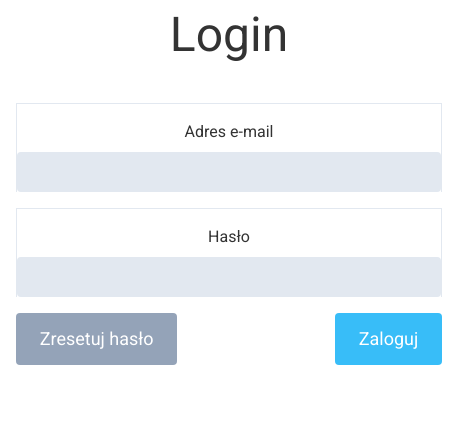
Test: Login › should display error when credentials are invalid
In the field labelled "Adres e-mail": (229, 172) 17,152 -> 441,192, type "test@email"
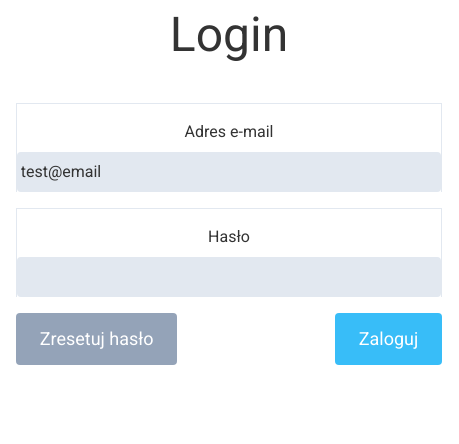
In the password field labelled "Hasło": (229, 277) 17,257 -> 441,297, type "password"
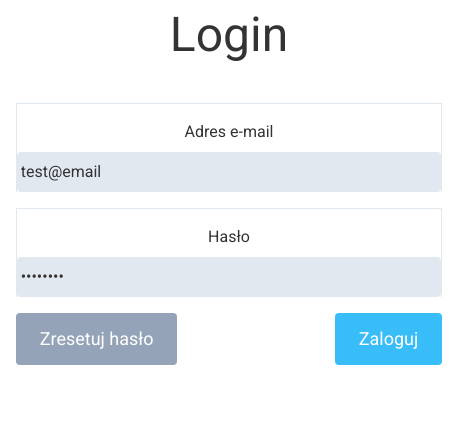
Click the button: (389, 339) 335,313 -> 442,365
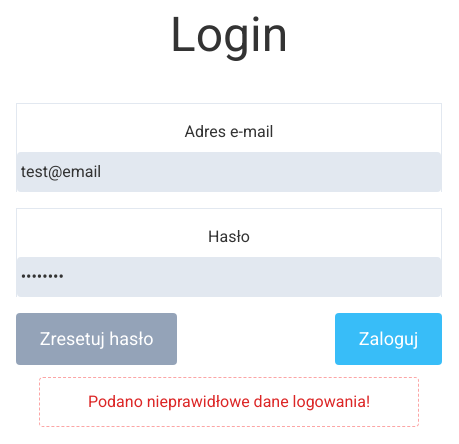
Check: the text "Podano nieprawidłowe dane logowania!" is shown, box 39,377 -> 419,427
